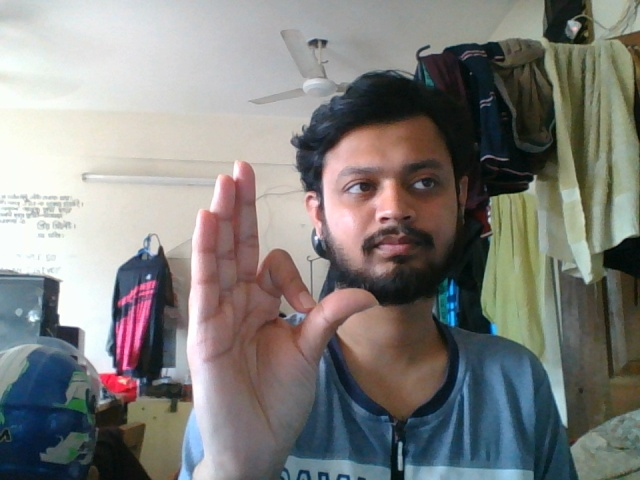uo: (185, 156, 382, 466)
